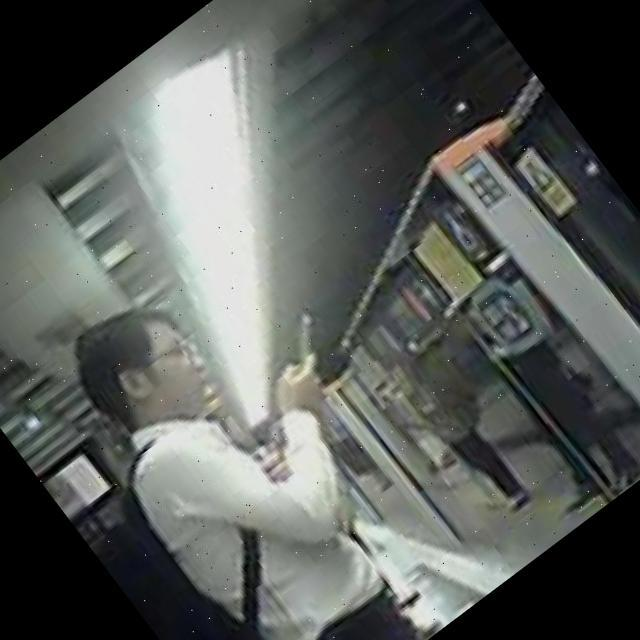person: (16, 227, 488, 640)
